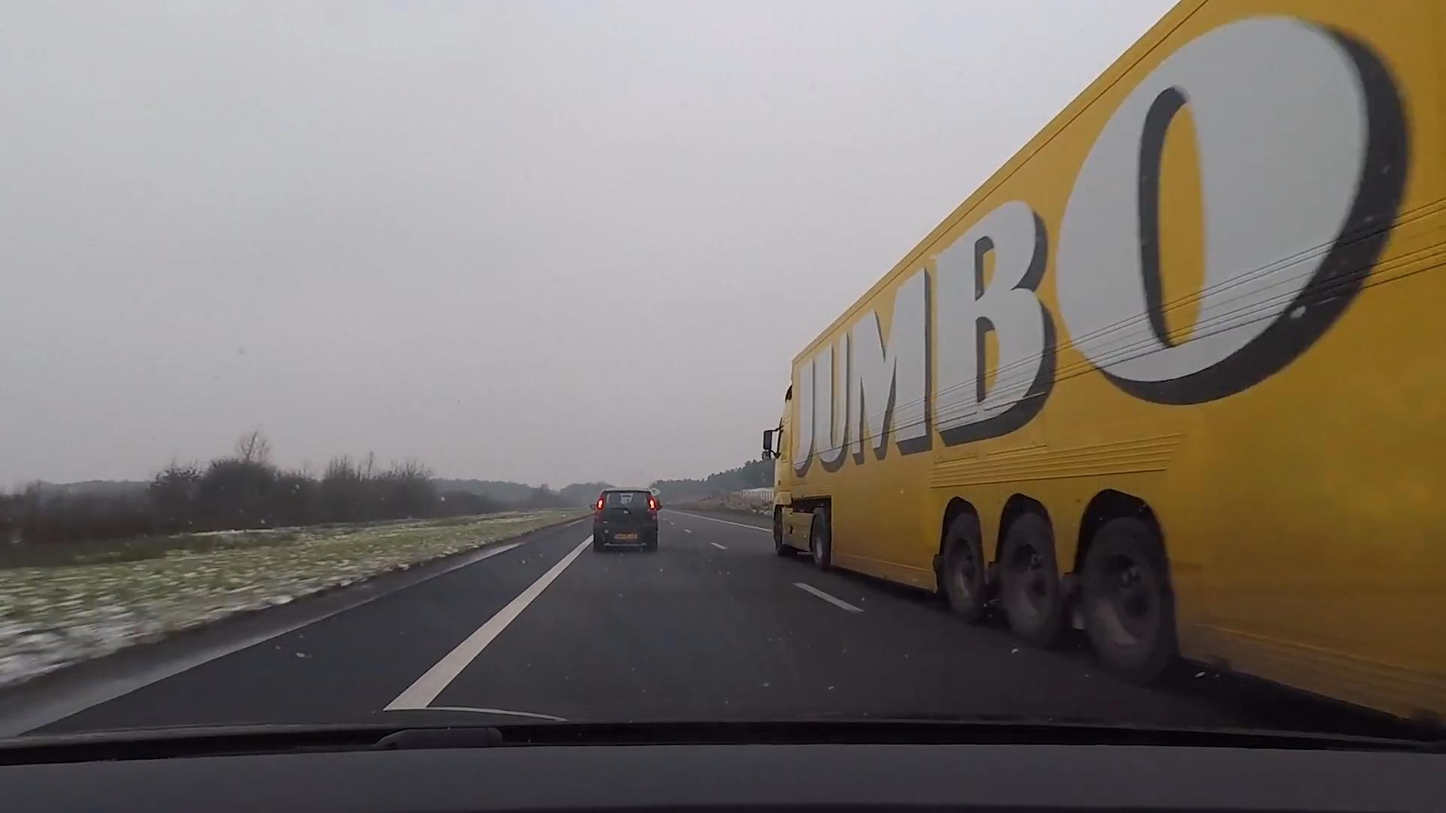Snow: (0, 513, 579, 689)
dry: (14, 508, 1445, 734)
